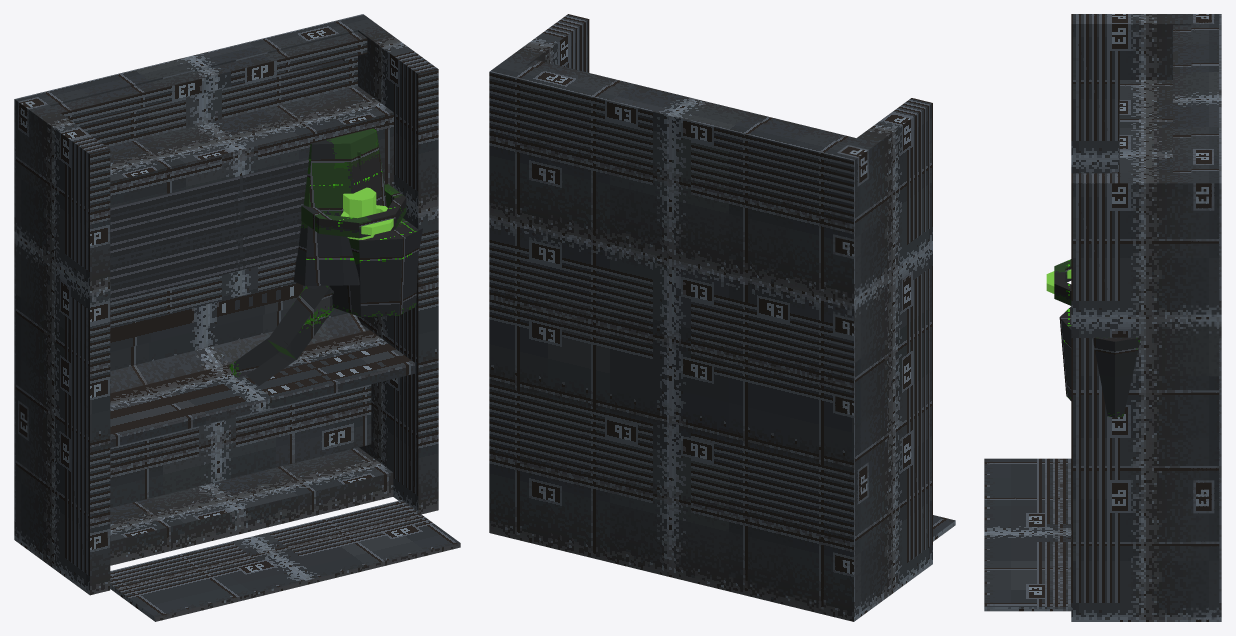
Rendered from eps_state_focus.glb.
3 renders of one model, left to right at view 1: azimuth 30°, elevation 25°; view 2: azimuth 150°, elevation 25°; view 3: azimuth 270°, elevation 25°, orthographic. The views are drawn at different scales.
Visible parts, largest first — view 1: eps_state_focus; view 2: eps_state_focus; view 3: eps_state_focus.
Part boxes in pixels (<box>): eps_state_focus: <box>14,14,460,621</box>; eps_state_focus: <box>489,14,955,621</box>; eps_state_focus: <box>984,14,1221,621</box>.
Size of the model in its own units: 2.46 by 2.9 by 1.42.
5 materials, 4 textured.
